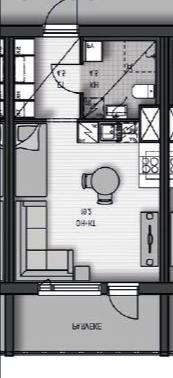door: (42, 0, 80, 34), (104, 288, 140, 323), (47, 62, 84, 96)
window: (34, 280, 104, 300)
